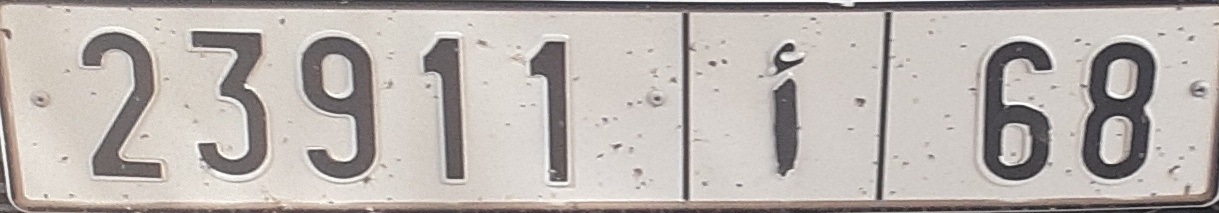1: (415, 31, 479, 186), (520, 30, 579, 189)
2: (75, 25, 171, 185)
3: (183, 24, 276, 183)
6: (967, 32, 1058, 181)
8: (1081, 43, 1161, 183)
9: (293, 31, 385, 181)
a: (756, 37, 809, 182)
